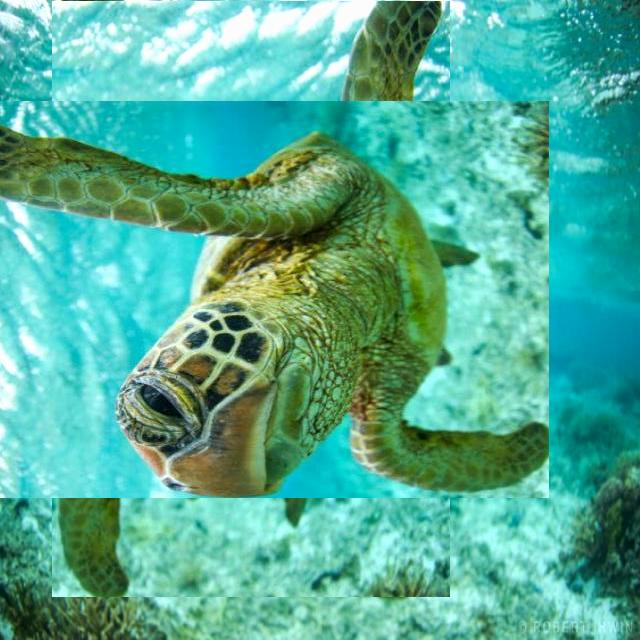Sea turtle: (2, 50, 500, 548)
